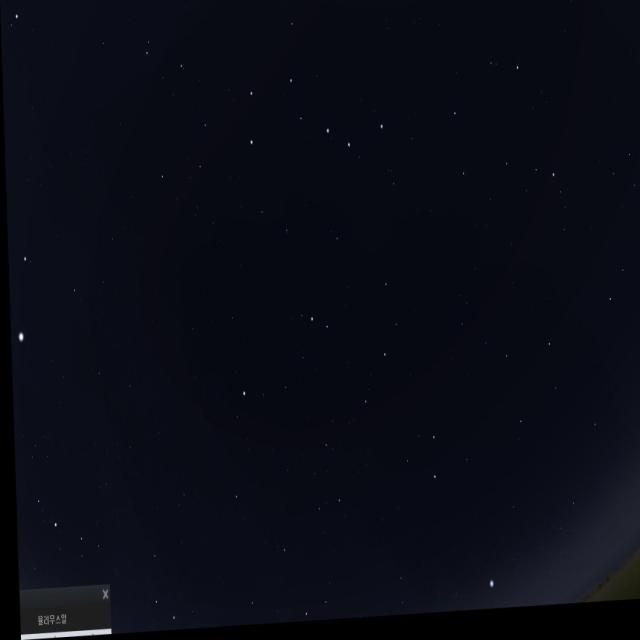ursa_major: (240, 74, 386, 212)
